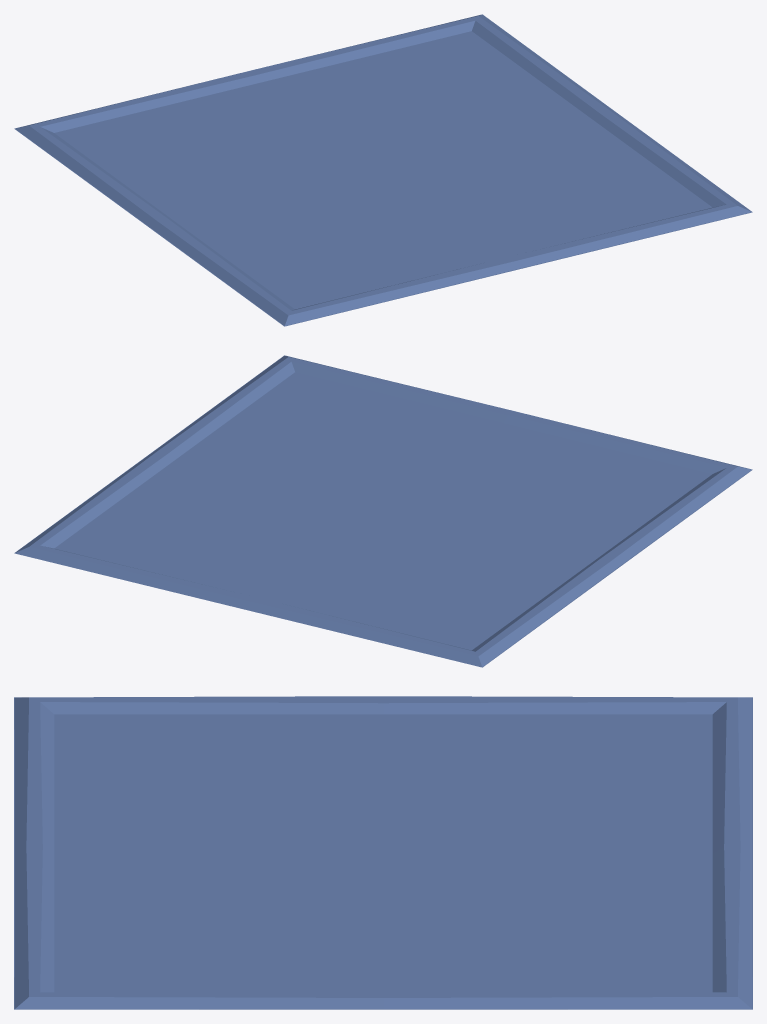
File: Suelo_Sala03.fbx
The picture shows the model from 3 angles, top to bottom: view 1: azimuth 30°, elevation 25°; view 2: azimuth 150°, elevation 25°; view 3: azimuth 270°, elevation 25°; orthographic projection. The views are drawn at different scales.
Parts seen in each view (by area): view 1: pCube33; view 2: pCube33; view 3: pCube33.
Boxes of the visible parts, bbox=[...] form: pCube33: bbox=[14, 14, 752, 326]; pCube33: bbox=[14, 355, 752, 667]; pCube33: bbox=[14, 696, 752, 1009].
Size of the model in its own units: 4 by 0.0389 by 4.
